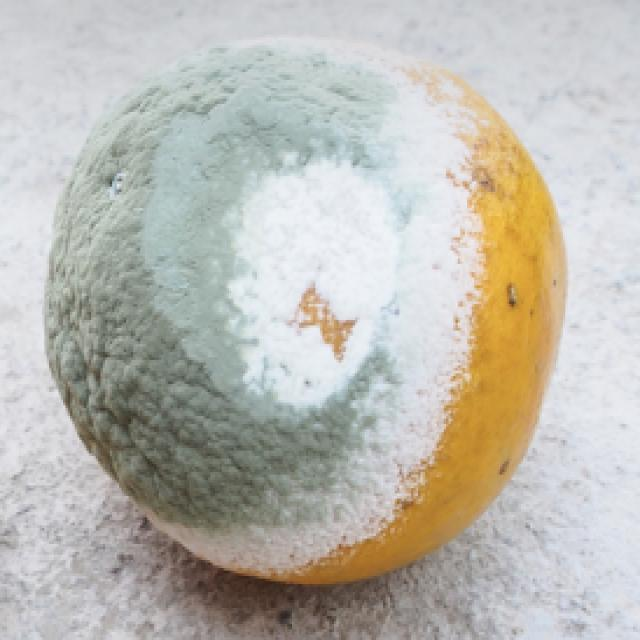sangat-busuk: (45, 38, 567, 584)
